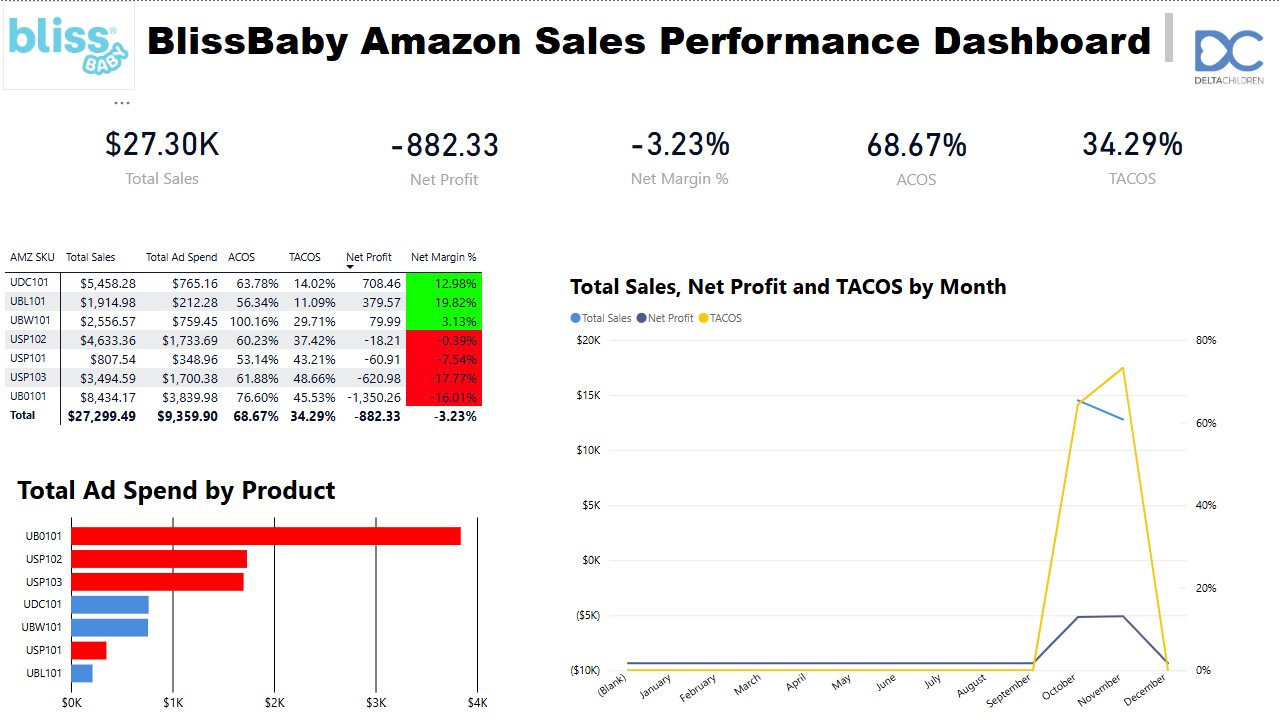

This screenshot's page, from the dashboard's own definition file:
{"tool":"powerbi","page":{"name":"Page 1","canvas":[1280,720],"ordinal":0},"visuals":[{"type":"card","fields":{"Values":["Product_Sales.Total Sales"]},"box":[40,54.5,243.6,191.8],"z":0},{"type":"card","fields":{"Values":["Product_Sales.Net Profit"]},"box":[322.7,38.2,242.7,225.5],"z":1000},{"type":"card","fields":{"Values":["Product_Sales.Net Margin %"]},"box":[550,30.9,259.1,239.1],"z":2000},{"type":"card","fields":{"Values":["Product_Sales.TACOS"]},"box":[985.5,59.1,294.5,182.7],"z":3000},{"type":"pivotTable","fields":{"Rows":["Dim_Products.AMZ SKU"],"Values":["Product_Sales.Total Sales","Product_Sales.Total Ad Spend","Product_Sales.ACOS","Product_Sales.TACOS","Product_Sales.Net Profit","Product_Sales.Net Margin %"]},"box":[0,242,504,195],"z":4000},{"type":"lineChart","fields":{"Category":["Product_Sales.purchase-d.Variation.Date Hierarchy.Month","Product_Sales.purchase-d.Variation.Date Hierarchy.Day"],"Y":["Product_Sales.Total Sales","Product_Sales.Net Profit"],"Y2":["Product_Sales.TACOS"]},"box":[565.5,270,656.4,450],"z":5000},{"type":"clusteredBarChart","title":"Total Ad Spend by Product","fields":{"Category":["Dim_Products.AMZ SKU"],"Y":["Product_Sales.Total Ad Spend"]},"box":[12,471,480,249],"z":6000},{"type":"card","fields":{"Values":["Product_Sales.ACOS"]},"box":[798.2,68.2,236.4,165.5],"z":7000},{"type":"image","box":[1178,0,102,111],"z":8000},{"type":"image","box":[3,0,132,89],"z":9000},{"type":"textbox","box":[158,0,1044,103],"z":10000}]}

Visuals, with their boxes in screenshot pixels (x1, y1, x2, y2), scaled from the page's 1280x720 canvas onto the 1280x720 screenshot:
card - Product_Sales.Total Sales: bbox=[40, 54, 284, 246]
card - Product_Sales.Net Profit: bbox=[323, 38, 565, 264]
card - Product_Sales.Net Margin %: bbox=[550, 31, 809, 270]
card - Product_Sales.TACOS: bbox=[986, 59, 1279, 242]
pivotTable - Dim_Products.AMZ SKU x Product_Sales.Total Sales: bbox=[0, 242, 504, 437]
lineChart - Product_Sales.purchase-d.Variation.Date Hierarchy.Month x Product_Sales.purchase-d.Variation.Date Hierarchy.Day: bbox=[566, 270, 1222, 719]
"Total Ad Spend by Product" clusteredBarChart: bbox=[12, 471, 492, 719]
card - Product_Sales.ACOS: bbox=[798, 68, 1035, 234]
image: bbox=[1178, 0, 1279, 111]
image: bbox=[3, 0, 135, 89]
textbox: bbox=[158, 0, 1202, 103]
